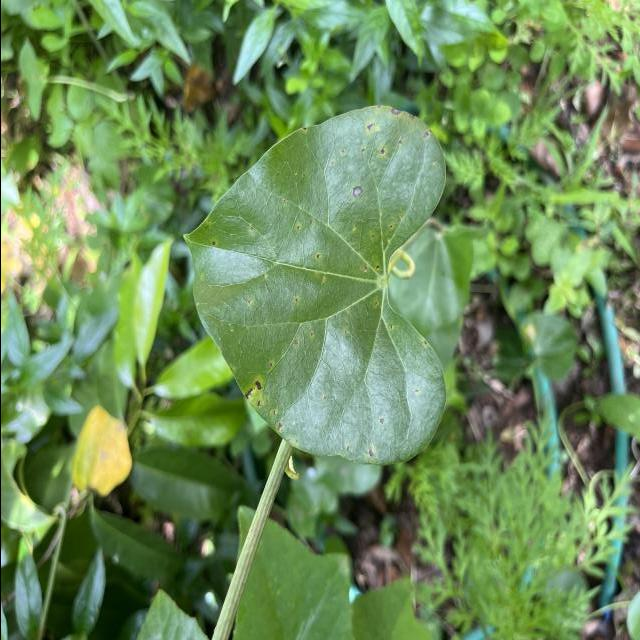Tinospora cordifolia: (175, 101, 453, 470)
